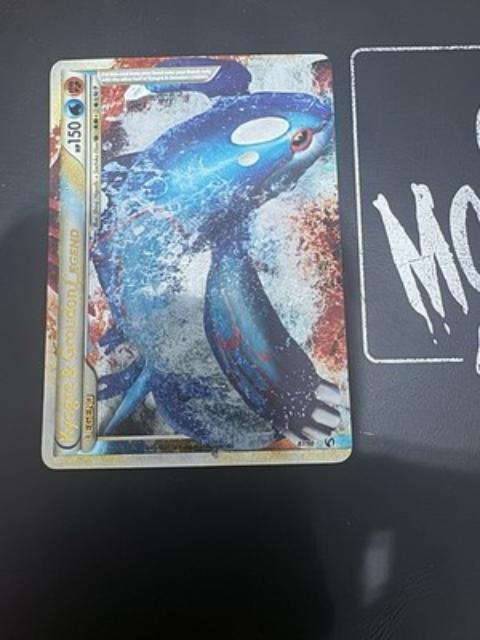Card: (39, 50, 358, 474)
Name: (52, 218, 85, 451)
